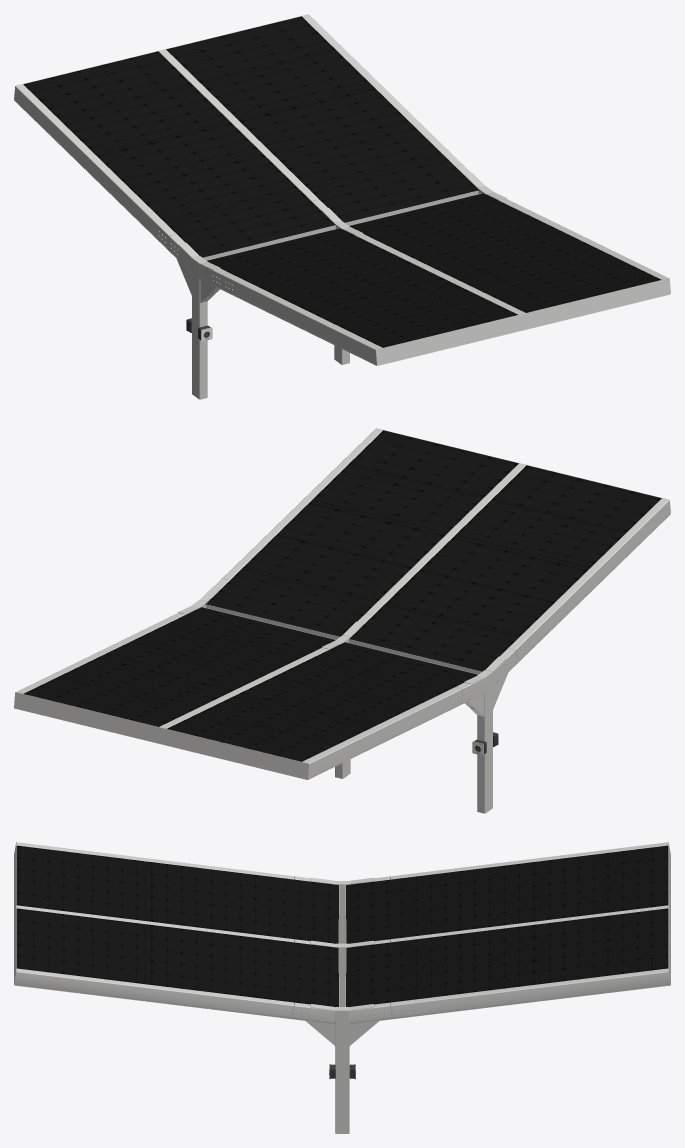
File: oldPac_4.glb
3 views of the same model, one above another, from view 1: azimuth 30°, elevation 25°; view 2: azimuth 150°, elevation 25°; view 3: azimuth 270°, elevation 25° (orthographic). The views are drawn at different scales.
Visible parts, largest first — view 1: Left.066, Left.060, Left.055, Left.061, Left.069, Left.056, Left.084; view 2: Left.066, Left.060, Left.055, Left.061, Left.069, Left.056, Left.084; view 3: Left.066, Left.061, Left.060, Left.058, Left.069, Left.084, Left.055, Plane.006, Left.062.
Boxes of the visible parts, x1,y1,x2,y2 form: Left.066: [23, 16, 661, 347]; Left.060: [14, 49, 525, 364]; Left.055: [14, 14, 670, 365]; Left.061: [302, 14, 668, 279]; Left.069: [192, 221, 349, 399]; Left.056: [203, 190, 481, 260]; Left.084: [14, 100, 670, 365]; Left.066: [23, 430, 661, 761]; Left.060: [159, 463, 670, 778]; Left.055: [14, 428, 670, 778]; Left.061: [16, 428, 382, 693]; Left.069: [335, 635, 492, 813]; Left.056: [203, 604, 481, 674]; Left.084: [14, 514, 670, 779]; Left.066: [16, 845, 668, 1007]; Left.061: [14, 968, 670, 1023]; Left.060: [16, 842, 668, 944]; Left.058: [335, 1007, 349, 1133]; Left.069: [335, 881, 349, 1006]; Left.084: [14, 984, 670, 1020]; Left.055: [14, 842, 670, 984]; Plane.006: [306, 1021, 378, 1045]; Left.062: [310, 877, 374, 947].
Bounding box in the file's own units: 5.47 × 3.15 × 11.57.
6 materials, 5 textured.
